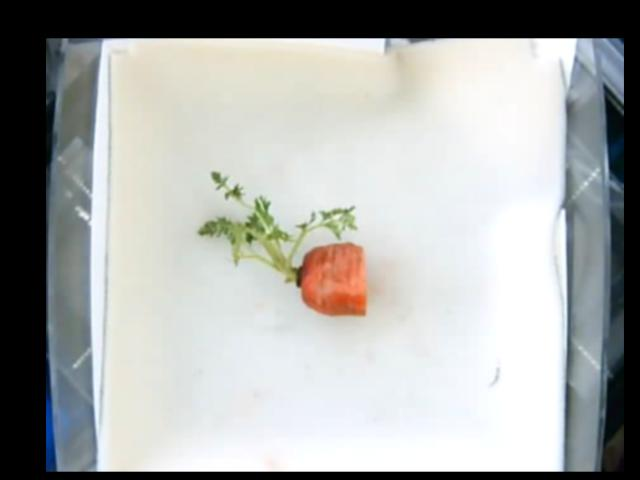Carrot: (195, 171, 365, 315)
